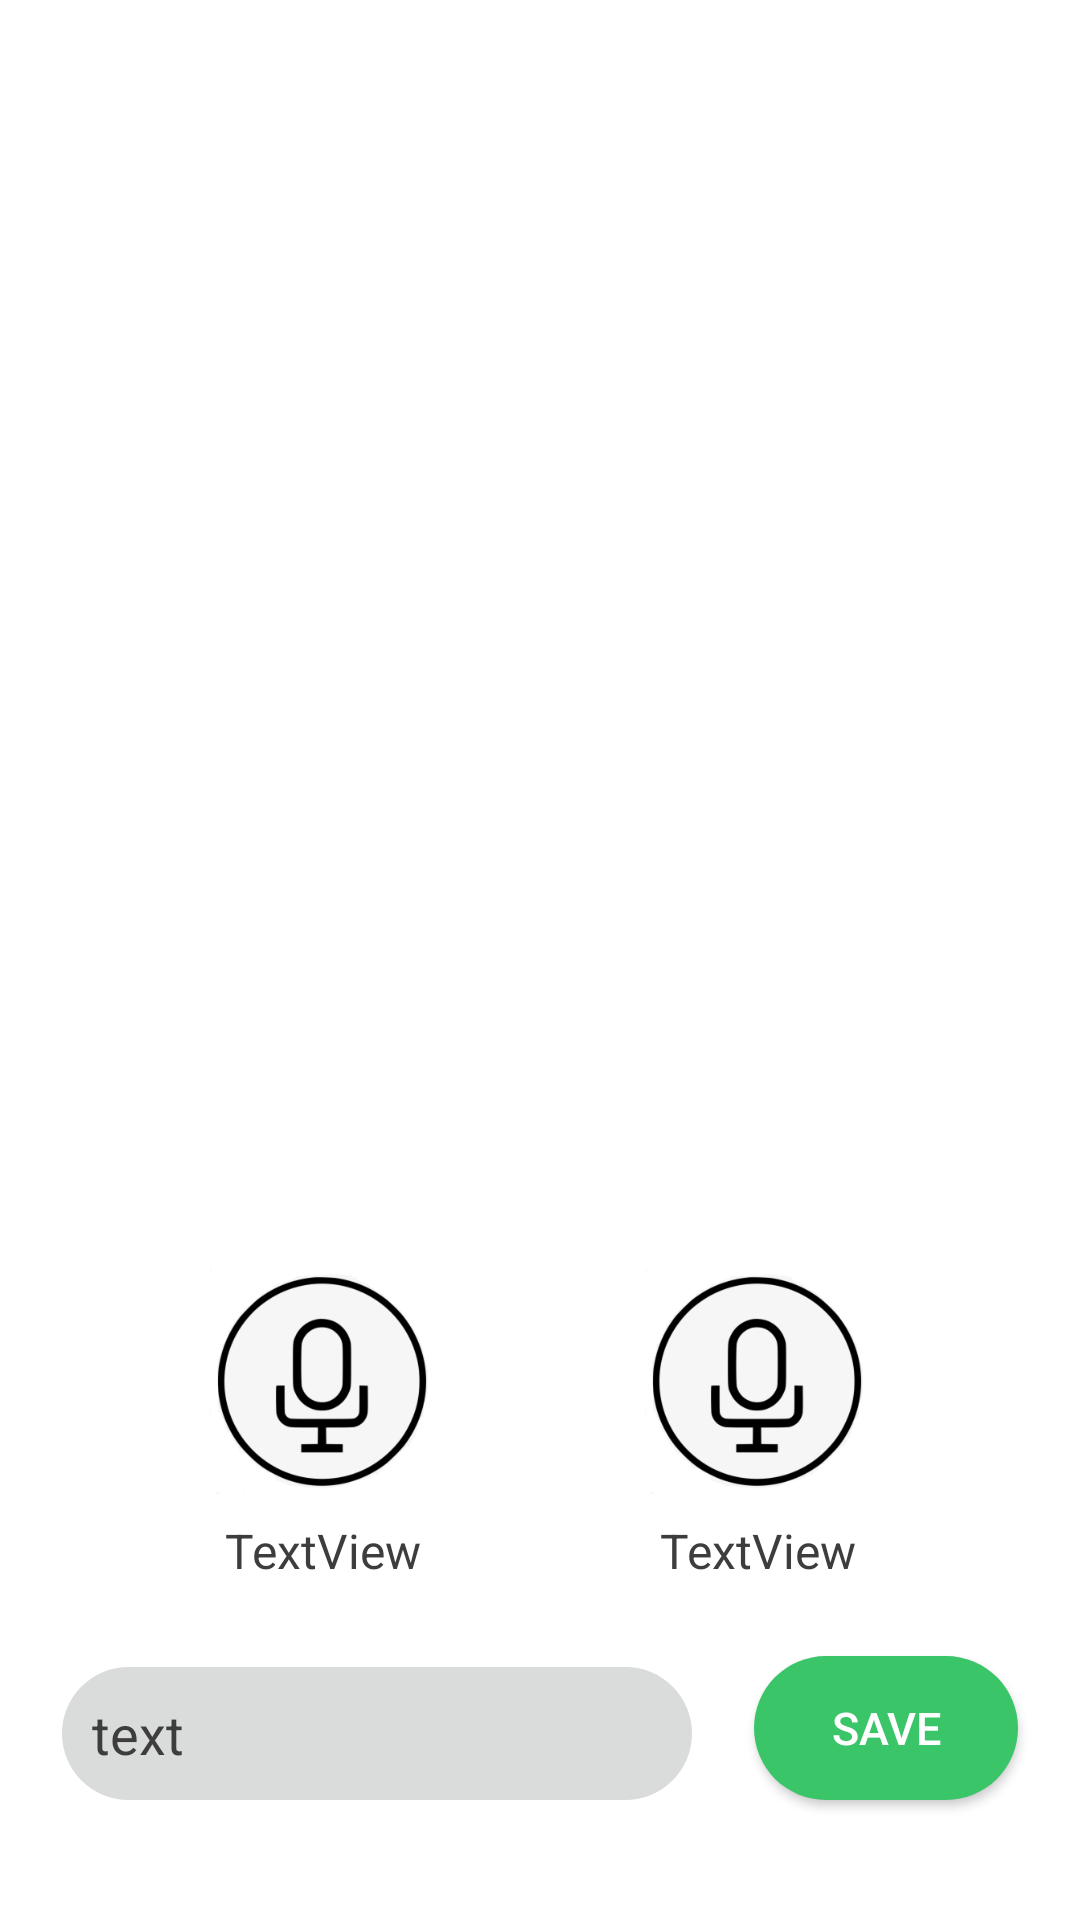

Icons on this 1080x1920 Android screen, each with the point to tap as [x,y]:
before record not clicked: [322,1381], [757,1381]
